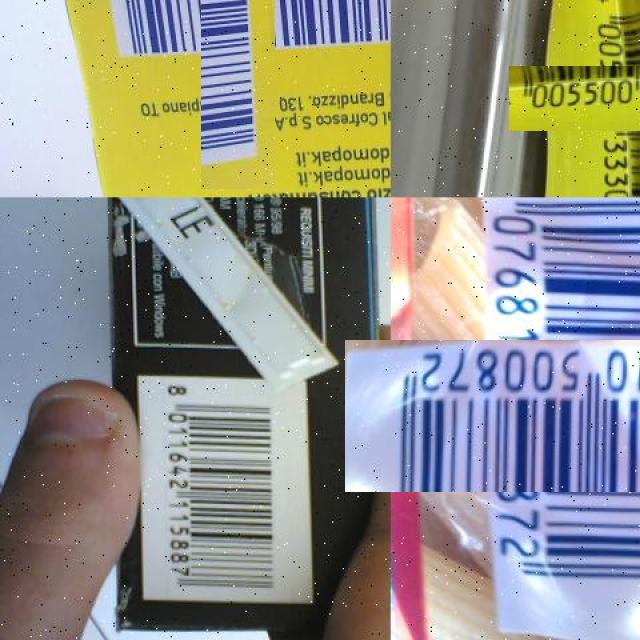Barcode: (416, 268, 640, 563), (135, 372, 317, 609), (144, 0, 334, 132), (542, 33, 640, 164)
